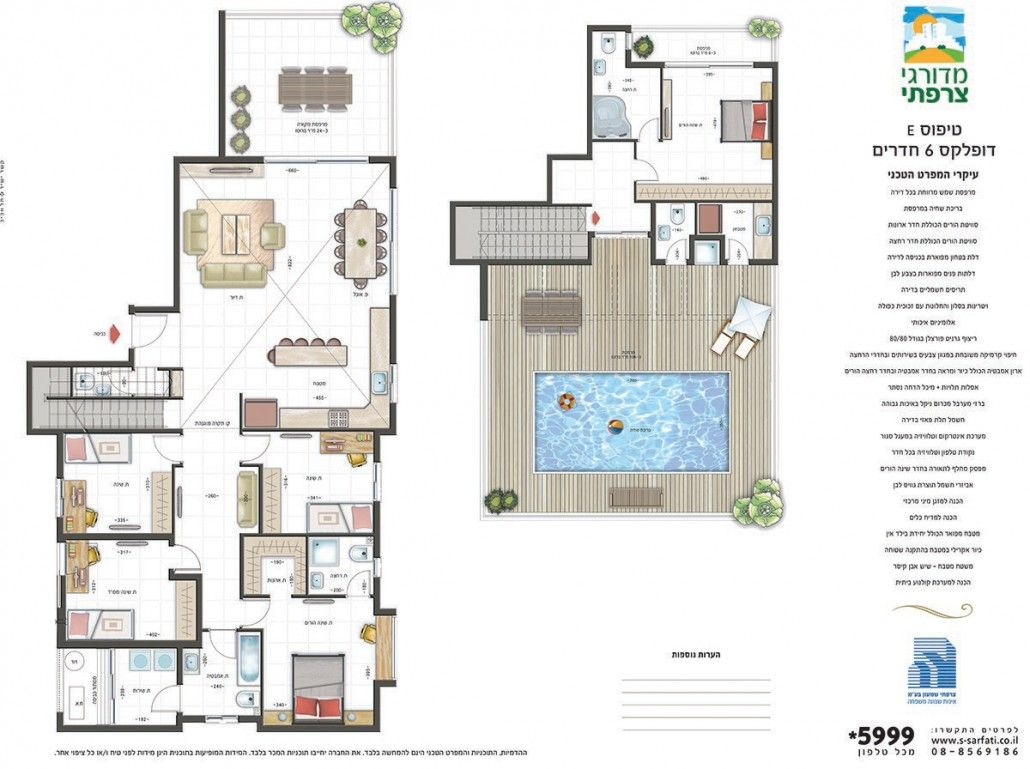door: (137, 314, 169, 347), (56, 640, 199, 647), (149, 433, 178, 465), (241, 433, 270, 465), (173, 541, 202, 573), (243, 597, 272, 629), (208, 631, 237, 663), (149, 682, 177, 715), (56, 725, 182, 732), (256, 725, 379, 732), (344, 568, 371, 595)
window: (387, 189, 397, 296), (664, 61, 753, 69), (262, 157, 369, 163), (56, 540, 65, 610), (55, 478, 64, 517), (203, 714, 238, 724), (388, 363, 396, 404), (373, 462, 381, 502), (372, 557, 380, 578)
